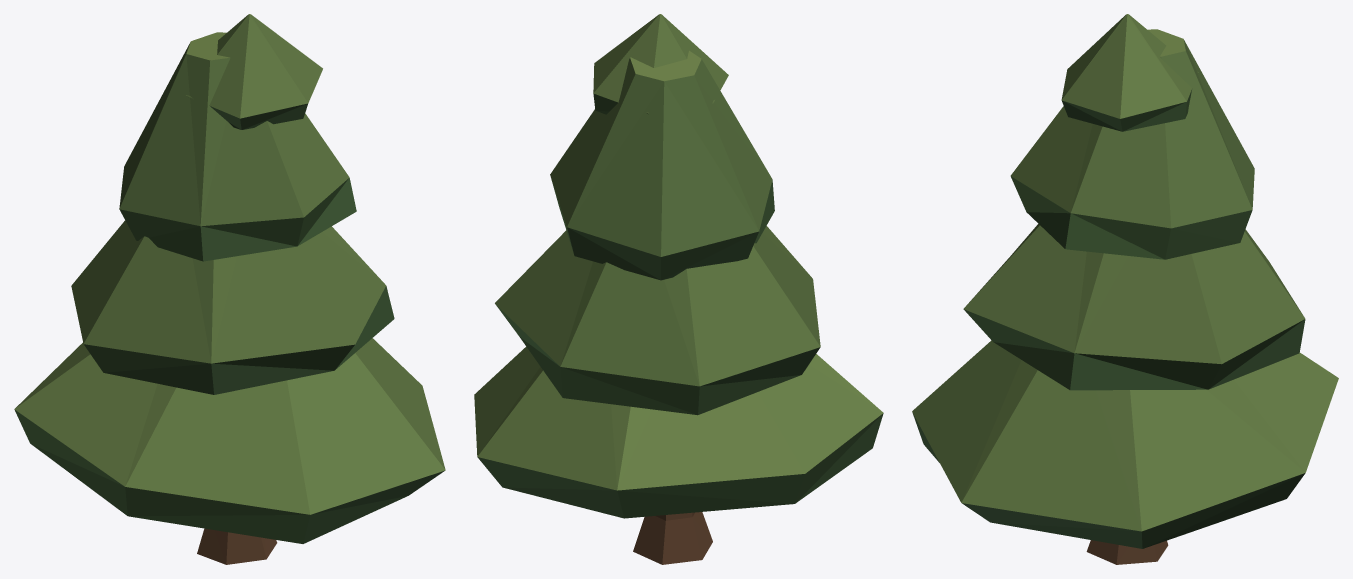
File: pine-wide.glb
3 views of the same model, side by side, from view 1: azimuth 30°, elevation 25°; view 2: azimuth 150°, elevation 25°; view 3: azimuth 270°, elevation 25° (orthographic). The views are drawn at different scales.
Parts seen in each view (by area): view 1: pine-wide; view 2: pine-wide; view 3: pine-wide.
Part boxes in pixels (bbox=[...]): pine-wide: bbox=[14, 14, 445, 564]; pine-wide: bbox=[474, 14, 883, 564]; pine-wide: bbox=[912, 14, 1338, 564].
Size of the model in its own units: 4.93 by 6.77 by 4.83.
